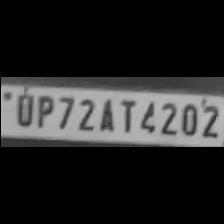0: (178, 99, 198, 137)
2: (72, 96, 96, 132), (198, 100, 220, 138), (156, 98, 176, 136)
4: (136, 97, 158, 135)
7: (54, 94, 74, 130)
A: (94, 96, 114, 132)
P: (32, 92, 52, 128)
T: (115, 96, 135, 134)
U: (11, 91, 35, 127)
